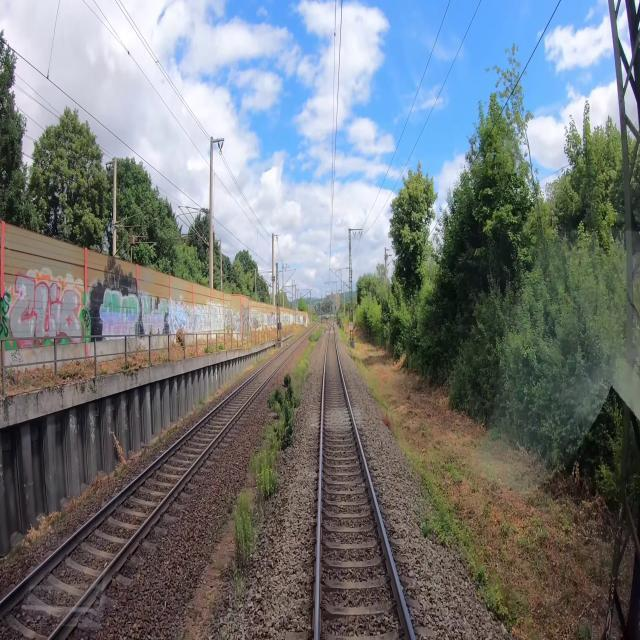Plant: (201, 321, 326, 619)
